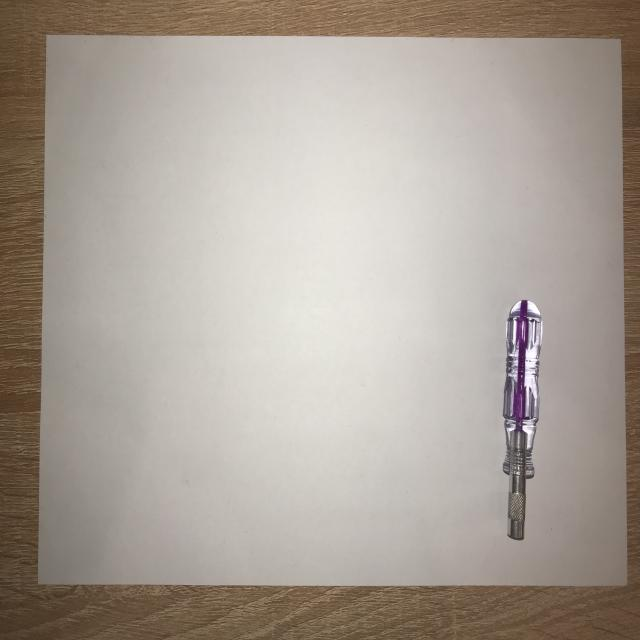screwdriver: (495, 292, 549, 558)
